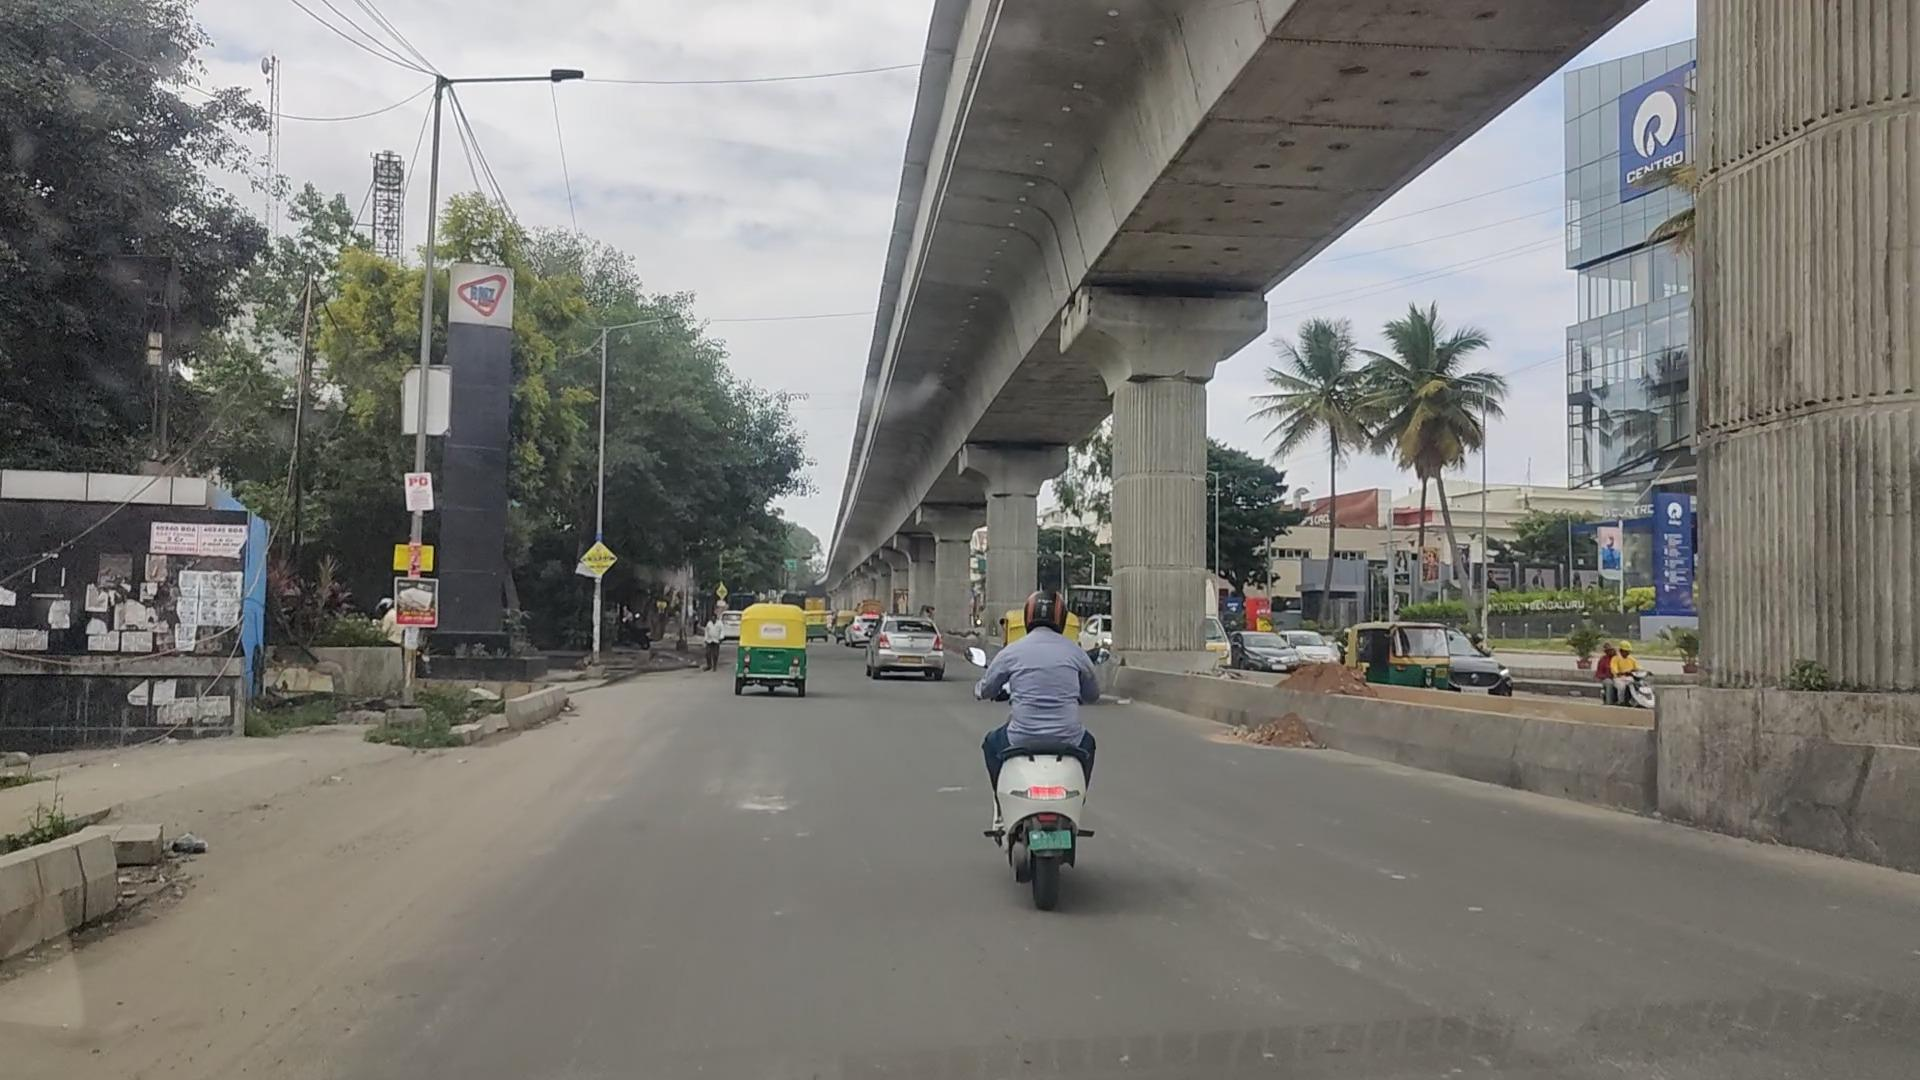LMV: (980, 570, 1120, 939), (737, 603, 820, 698)
